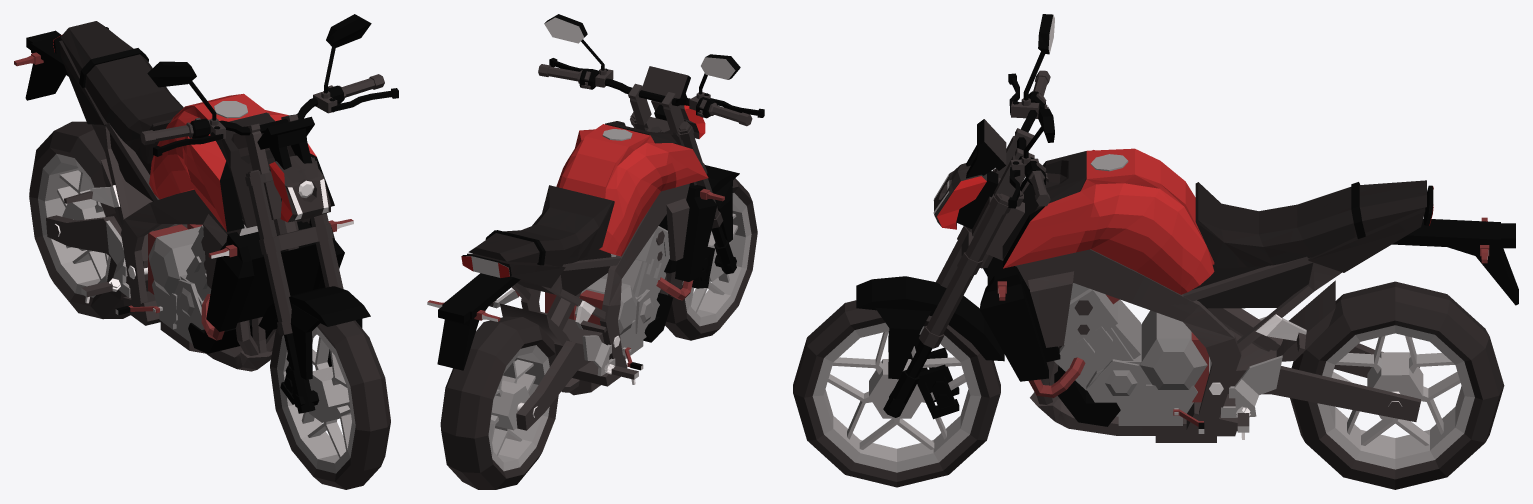
File: Bike Model.fbx
3 views of the same model, side by side, from view 1: azimuth 30°, elevation 25°; view 2: azimuth 150°, elevation 25°; view 3: azimuth 270°, elevation 25° (orthographic). The views are drawn at different scales.
Parts seen in each view (by area): view 1: BodyMesh, HandleMesh, Front_Wheel_Mesh, Back_Wheel_Mesh, Dirt_Guard_Mesh, Swing_Arm_Mesh; view 2: BodyMesh, Back_Wheel_Mesh, HandleMesh, Front_Wheel_Mesh, Swing_Arm_Mesh, Dirt_Guard_Mesh; view 3: BodyMesh, Back_Wheel_Mesh, Front_Wheel_Mesh, HandleMesh, Dirt_Guard_Mesh, Swing_Arm_Mesh.
Boxes of the visible parts, box(x1,y1,x2,y2) form: BodyMesh: box(14, 21, 353, 371); HandleMesh: box(140, 14, 398, 335); Front_Wheel_Mesh: box(270, 320, 390, 489); Back_Wheel_Mesh: box(29, 121, 148, 319); Dirt_Guard_Mesh: box(258, 286, 370, 413); Swing_Arm_Mesh: box(46, 159, 187, 280); BodyMesh: box(427, 121, 724, 395); Back_Wheel_Mesh: box(440, 316, 558, 489); HandleMesh: box(538, 14, 764, 228); Front_Wheel_Mesh: box(665, 178, 757, 340); Swing_Arm_Mesh: box(500, 303, 620, 430); Dirt_Guard_Mesh: box(689, 165, 739, 288); BodyMesh: box(979, 148, 1518, 442); Back_Wheel_Mesh: box(1290, 281, 1504, 489); Front_Wheel_Mesh: box(793, 300, 1000, 487); HandleMesh: box(919, 14, 1054, 348); Dirt_Guard_Mesh: box(856, 276, 1004, 419); Swing_Arm_Mesh: box(1209, 280, 1420, 421).
Size of the model in its own units: 84.82 by 130 by 204.
